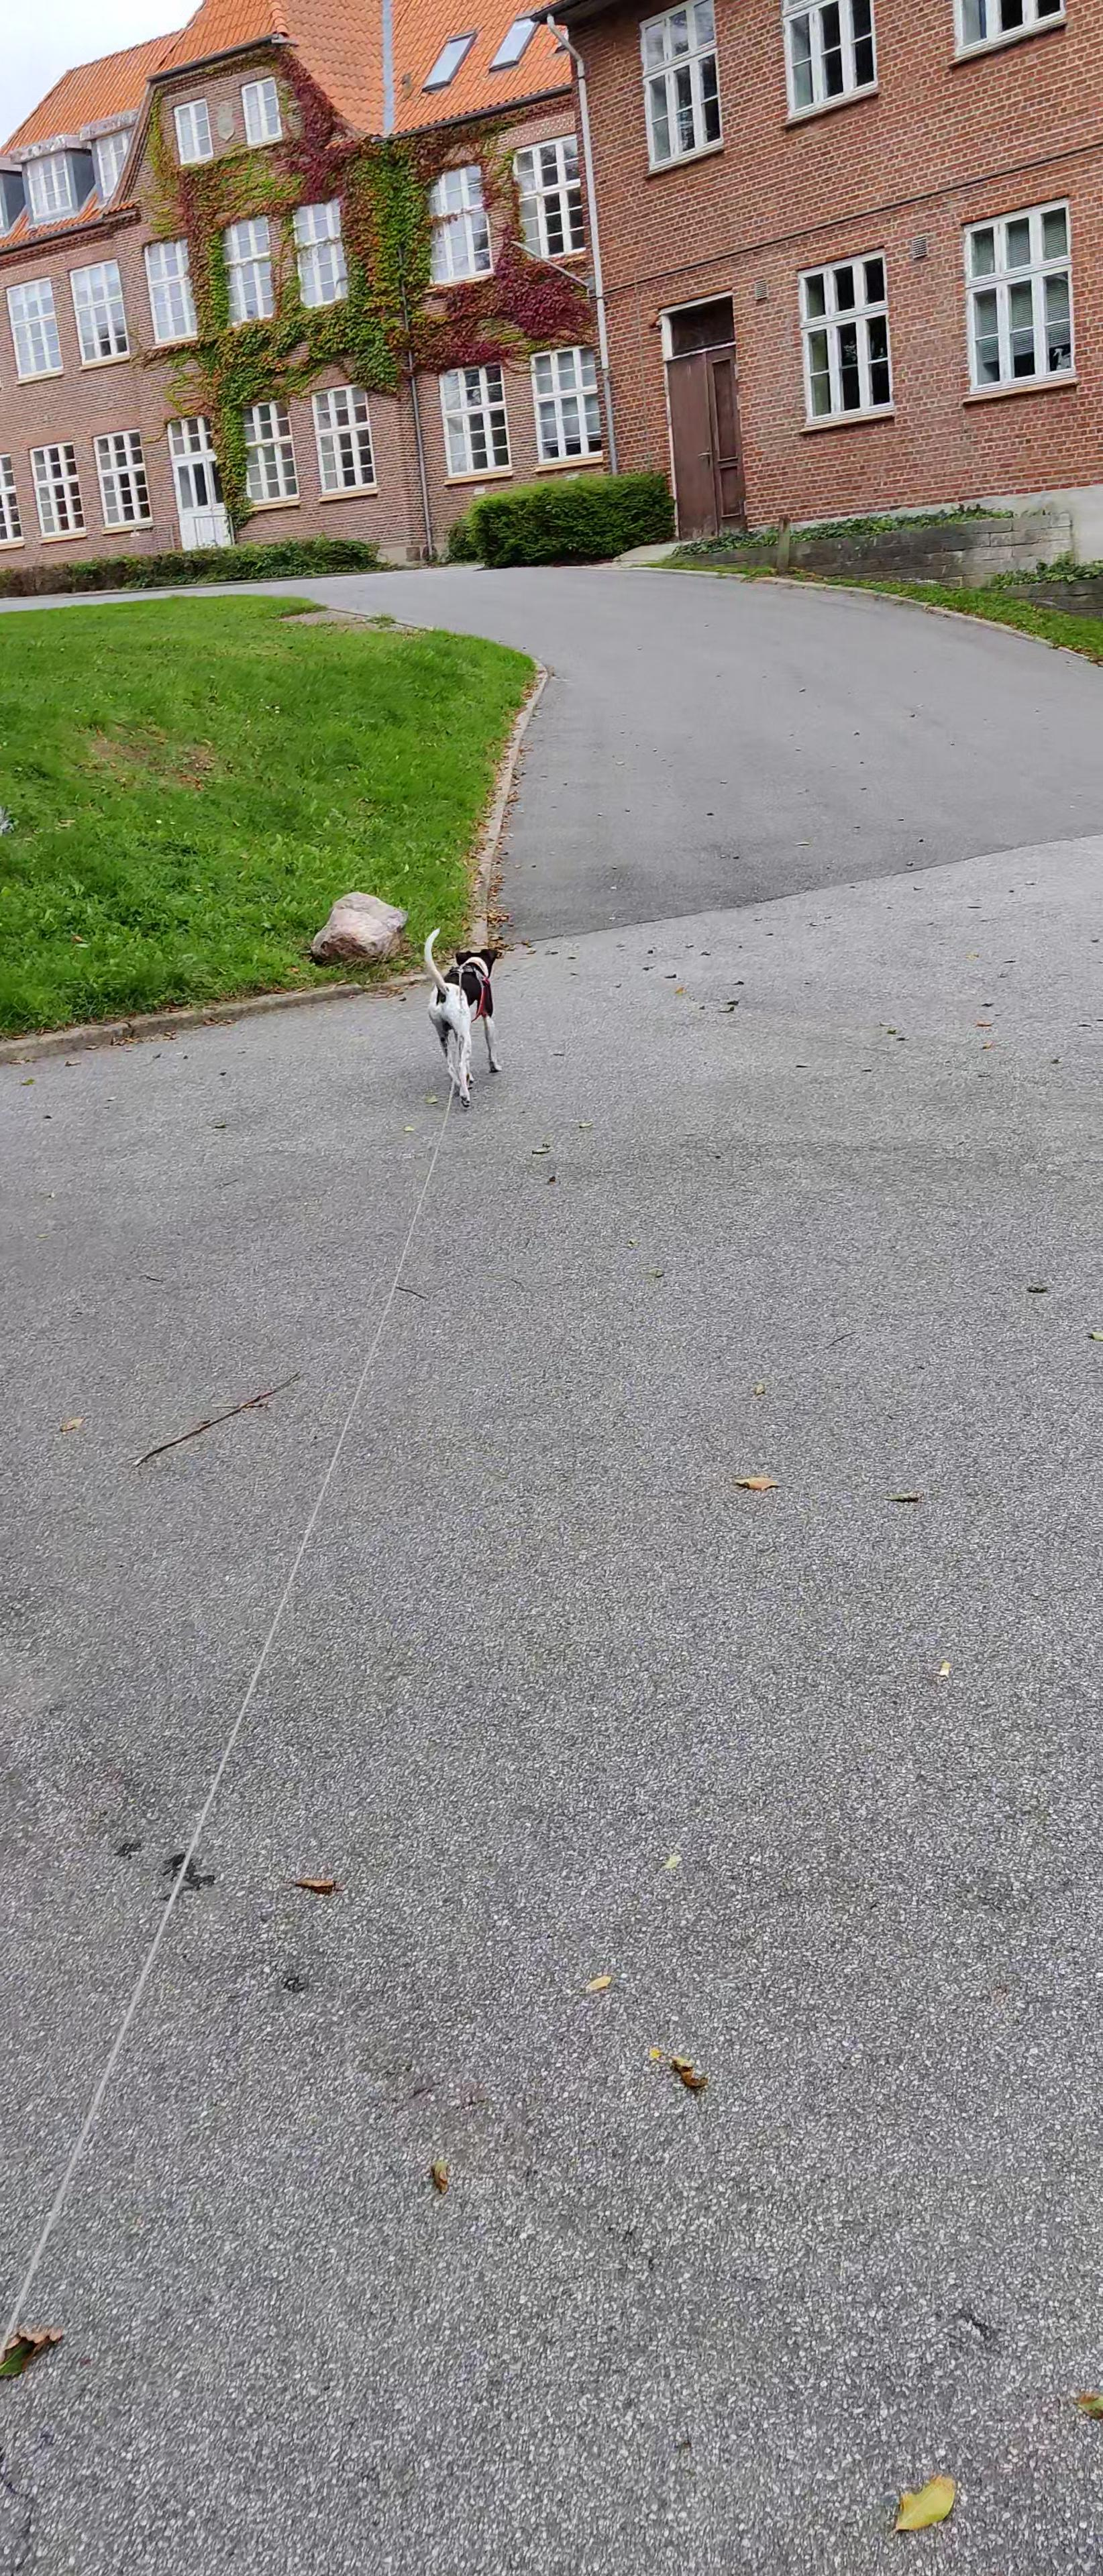Dog: (416, 922, 505, 1112)
